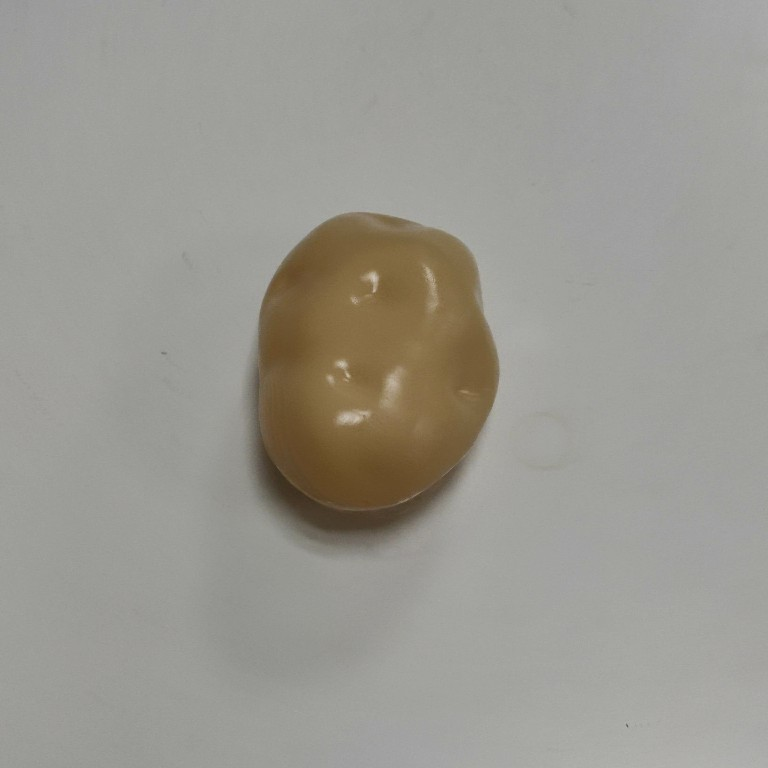fruit_potato: (251, 208, 505, 518)
